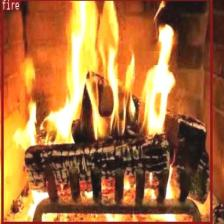fire: (1, 0, 212, 224)
